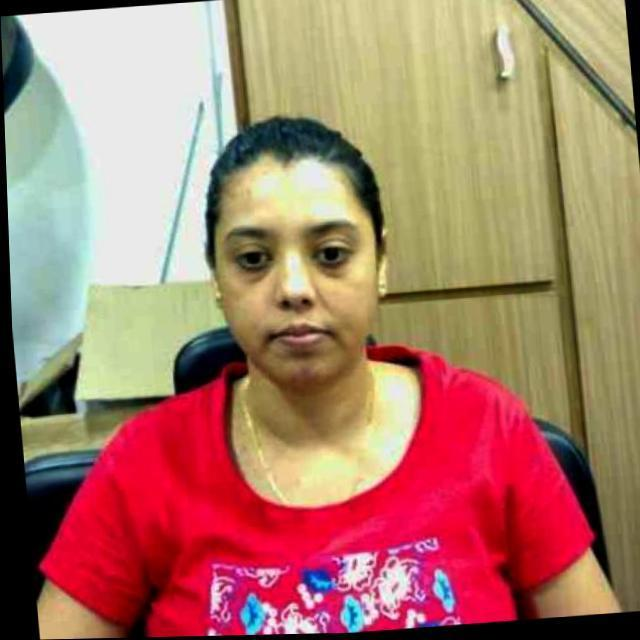puffy_eyes: (232, 271, 268, 283), (315, 267, 348, 279)
